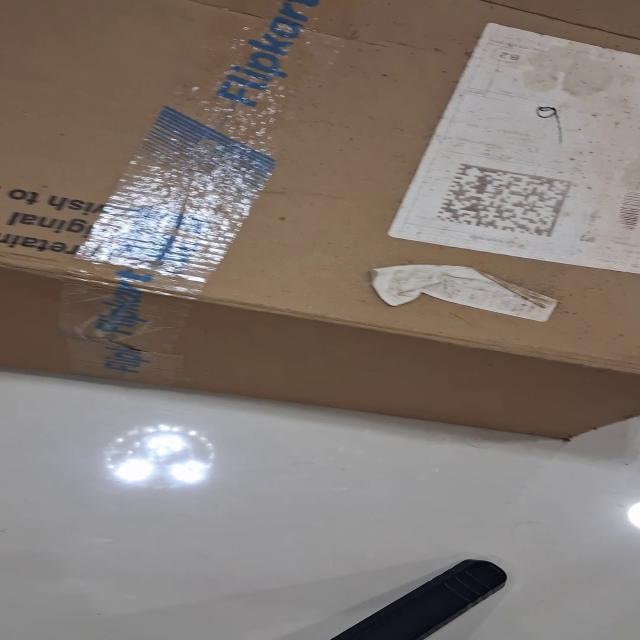paper: (386, 22, 639, 274), (369, 263, 558, 322)
